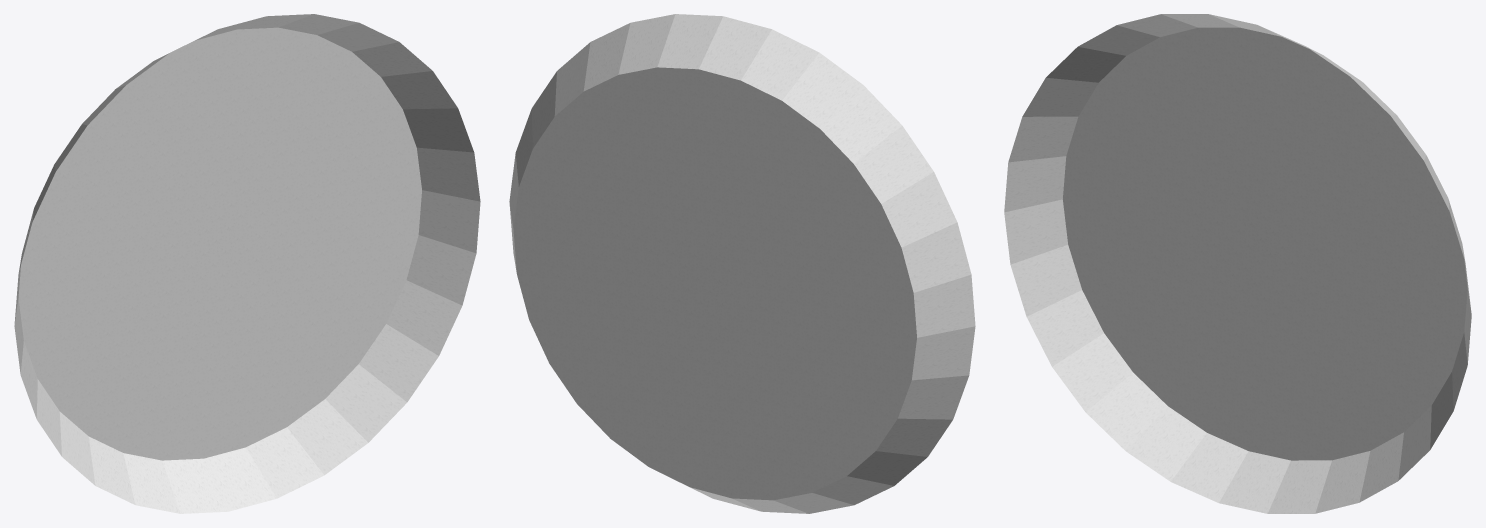
The model's file is complex_land_for_snow.obj.
3 views of the same model, side by side, from view 1: azimuth 30°, elevation 25°; view 2: azimuth 150°, elevation 25°; view 3: azimuth 330°, elevation 25° (orthographic).
Parts seen in each view (by area): view 1: grass; view 2: grass; view 3: grass.
Part boxes in pixels (x1,y1,x2,y2): grass: (14, 14, 480, 513); grass: (509, 14, 975, 513); grass: (1004, 14, 1471, 513).
Bounding box in the file's own units: 200 × 199 × 20.2.
Materials: 1 (1 with a texture image).
